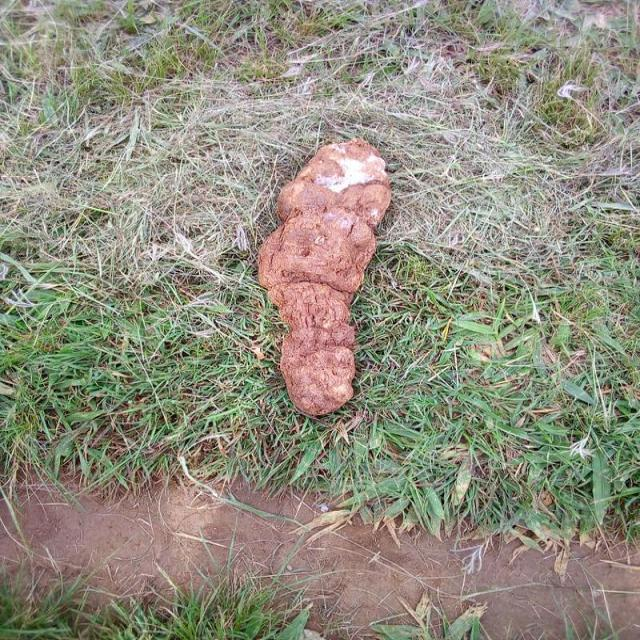cassava leaf: (256, 137, 391, 417)
